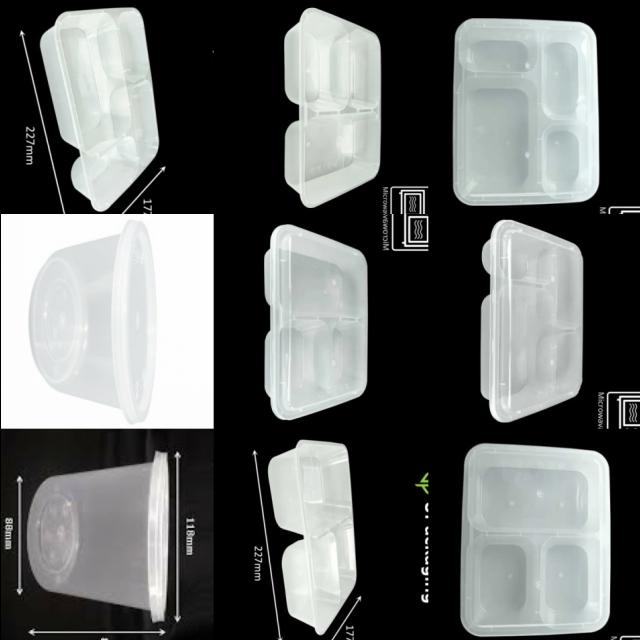plastik: (460, 443, 609, 636), (453, 19, 598, 206), (28, 221, 155, 424), (26, 451, 168, 622), (39, 8, 158, 211), (480, 221, 582, 422), (263, 224, 367, 419), (284, 8, 379, 207), (267, 441, 355, 635)
